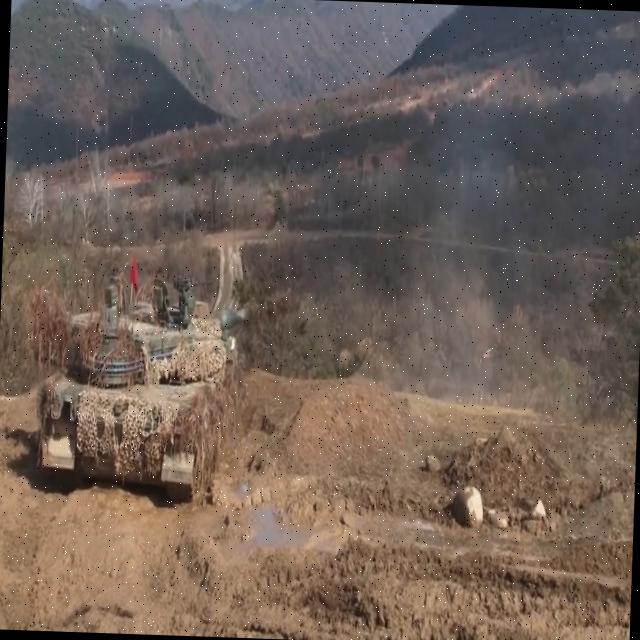korea tank: (22, 272, 294, 514)
